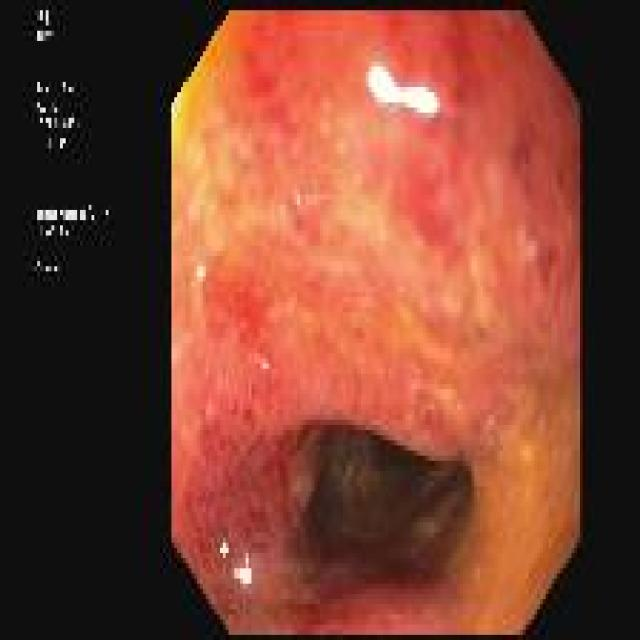ulcerative-colitis: (171, 11, 580, 634)
